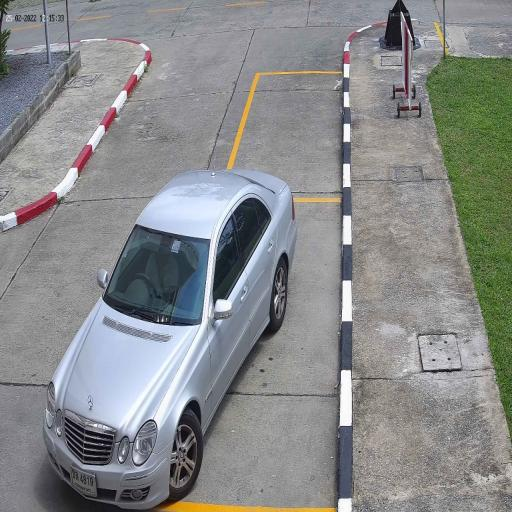car: (42, 164, 300, 512)
